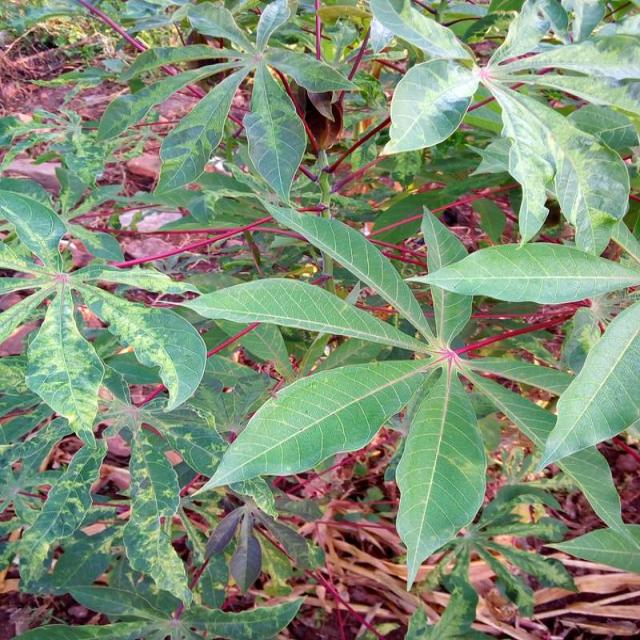cassava leaf: (186, 356, 432, 512), (394, 359, 487, 591), (179, 275, 430, 353), (534, 298, 638, 474), (408, 240, 639, 305), (384, 56, 478, 154)
